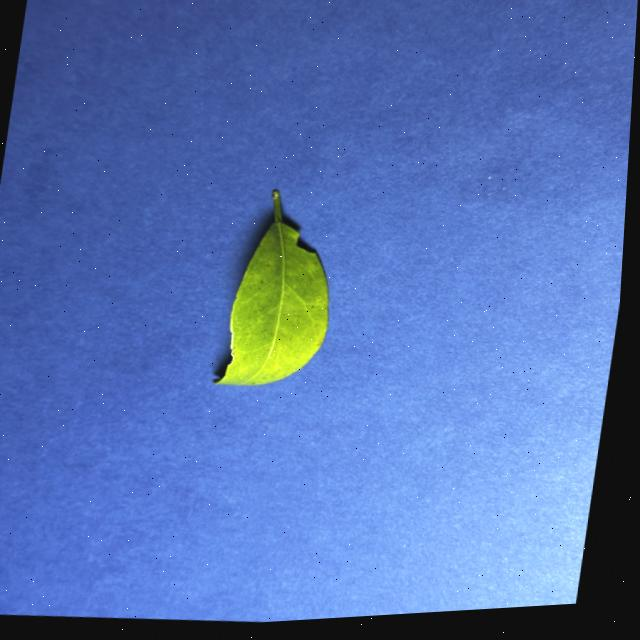greening: (213, 190, 328, 385)
